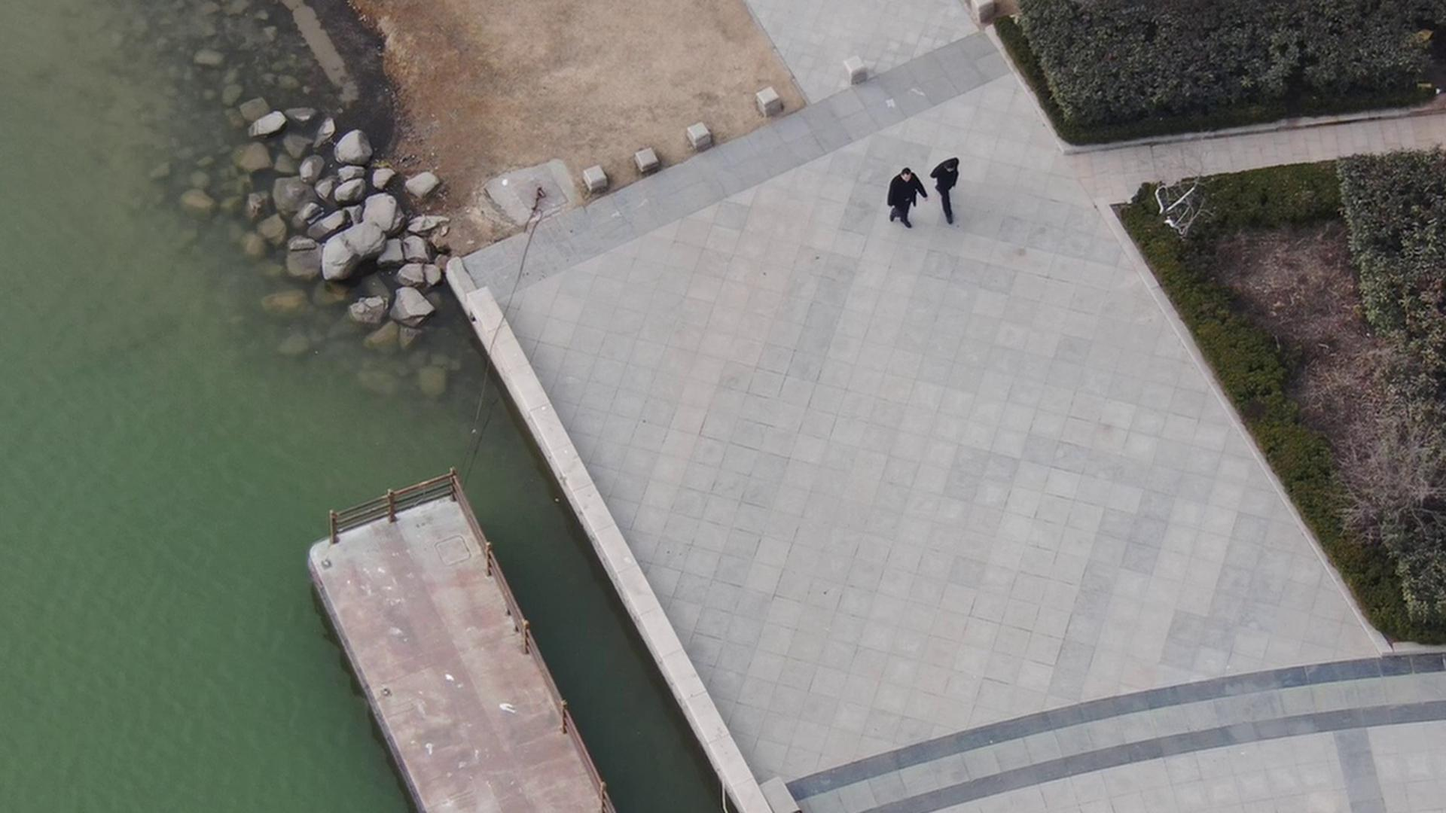human: (867, 154, 910, 224), (911, 139, 947, 204)
